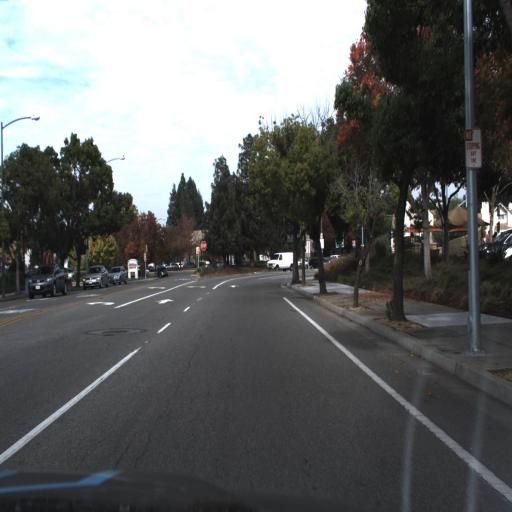car: (28, 262, 70, 299), (78, 260, 110, 296), (79, 260, 111, 294), (264, 246, 298, 276), (109, 261, 133, 287), (149, 261, 166, 282)
